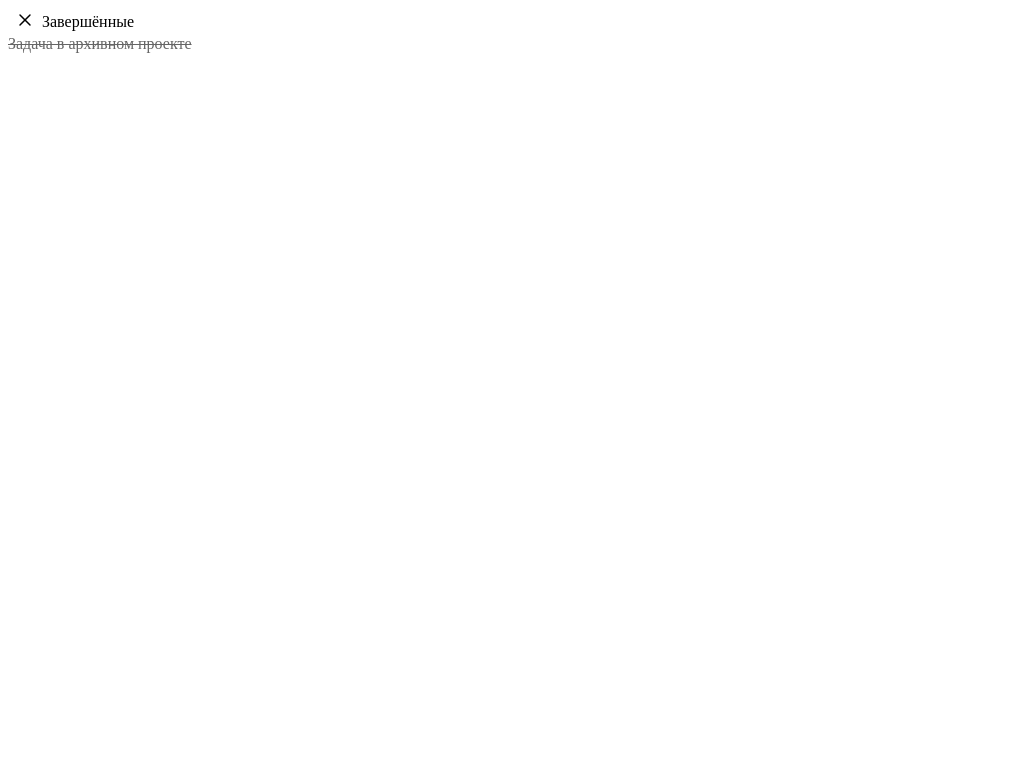
Test: Completed — §11.11 архивный проект › диалог показывает выбор «Восстановить проект и задачу»/«Восстановить во Входящие»
Click the text "Задача в архивном проекте".
click(100, 44)  # box x1=8 y1=35 x2=192 y2=53
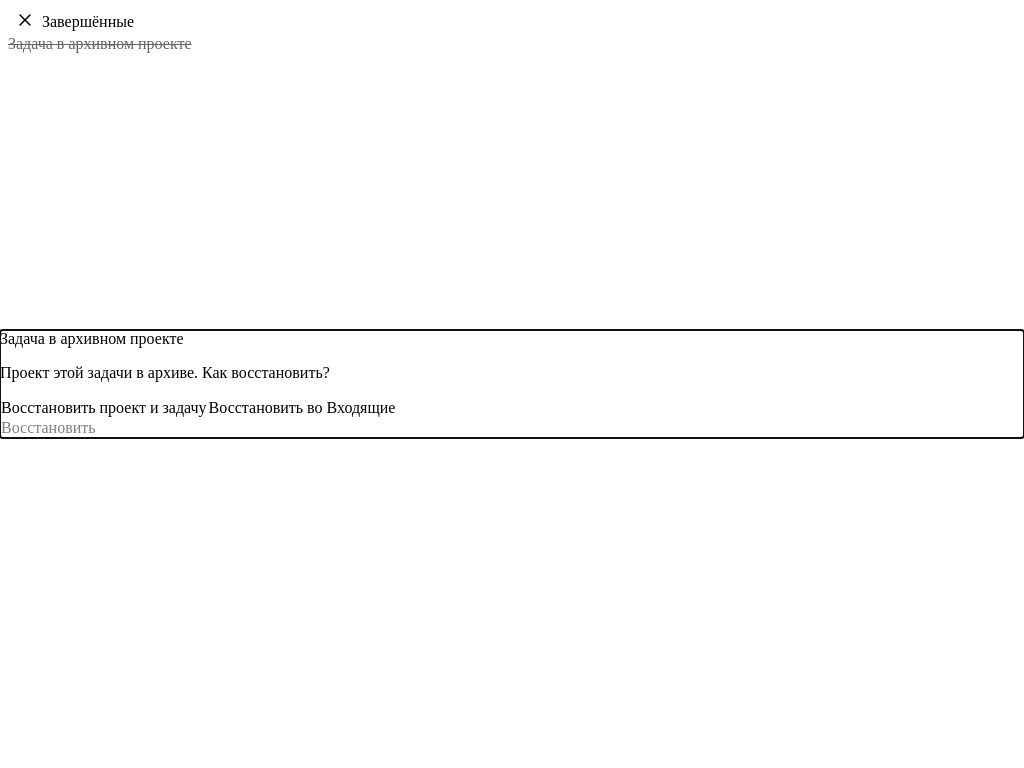
Now the button "Восстановить проект и задачу" is shown, box x1=0 y1=398 x2=208 y2=418
Now the button "Восстановить во Входящие" is shown, box x1=208 y1=398 x2=396 y2=418
